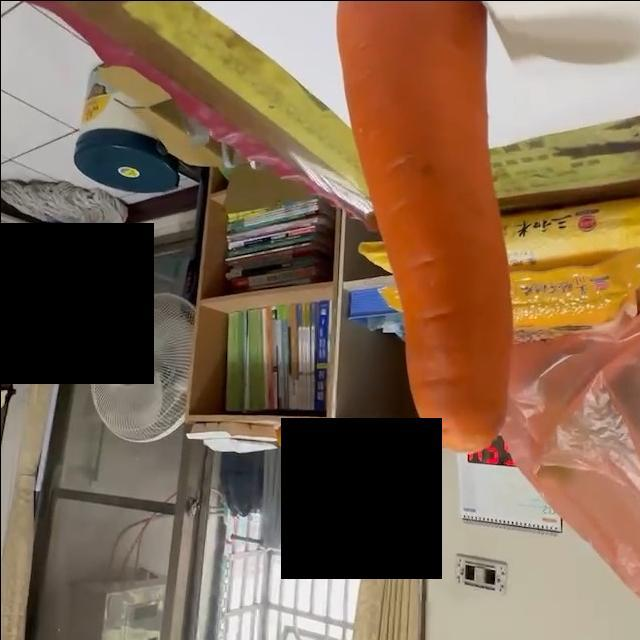carrot: (334, 1, 510, 451)
